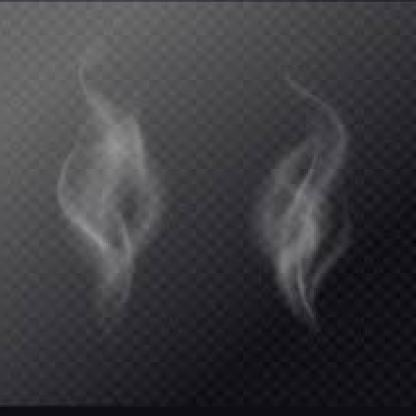smoke: (55, 76, 167, 331), (247, 108, 351, 328)
